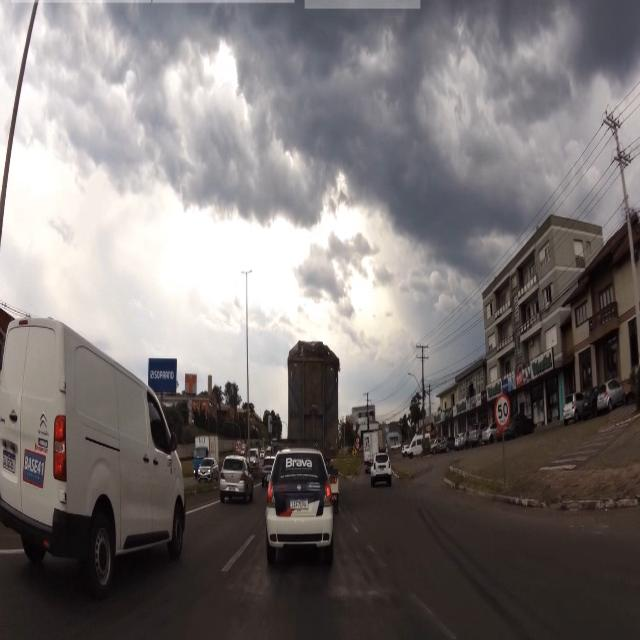R-19: (495, 393, 510, 428)
